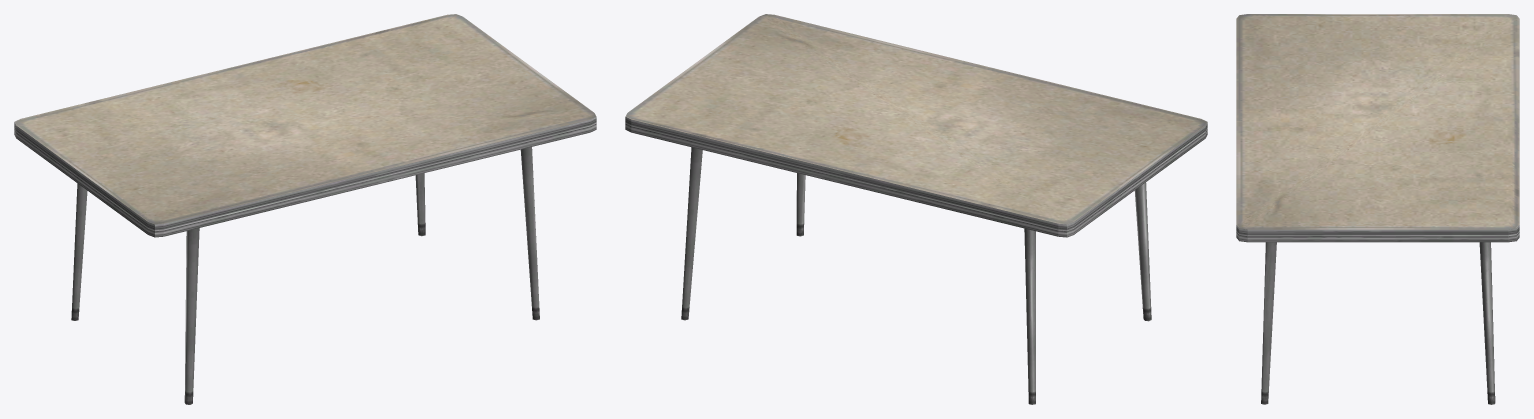
File: table_rec.fbx
3 views of the same model, side by side, from view 1: azimuth 30°, elevation 25°; view 2: azimuth 150°, elevation 25°; view 3: azimuth 270°, elevation 25° (orthographic).
Visible parts, largest first — view 1: mesh_0; view 2: mesh_0; view 3: mesh_0.
Boxes of the visible parts, box(x1,y1,x2,y2) form: mesh_0: box(14, 14, 596, 404); mesh_0: box(625, 14, 1207, 404); mesh_0: box(1236, 14, 1519, 404).
Size of the model in its own units: 180 by 76.93 by 100.
1 material, 1 textured.
